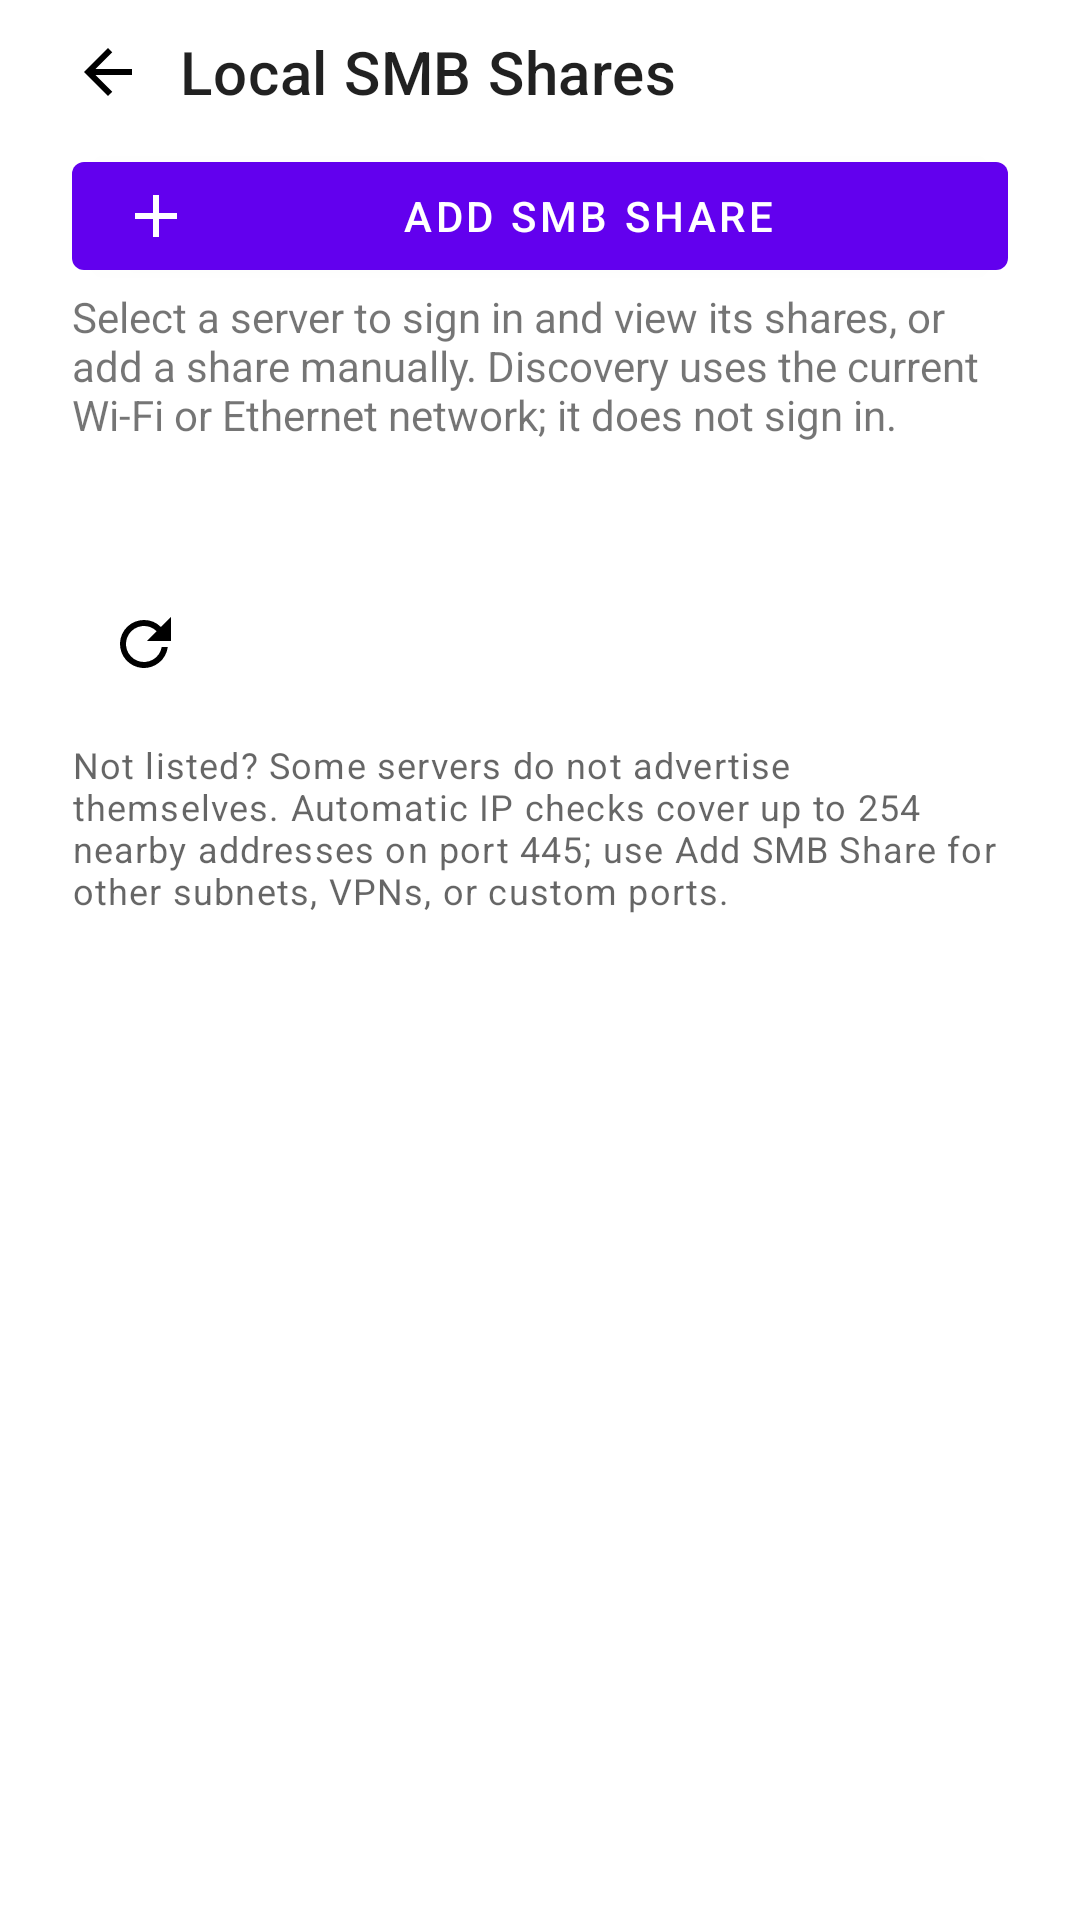

Screen size 1080 x 1920. Icon name, then its center in pixels as (x=x, y=y):
Back: (x=108, y=72)
Refresh: (x=145, y=642)
